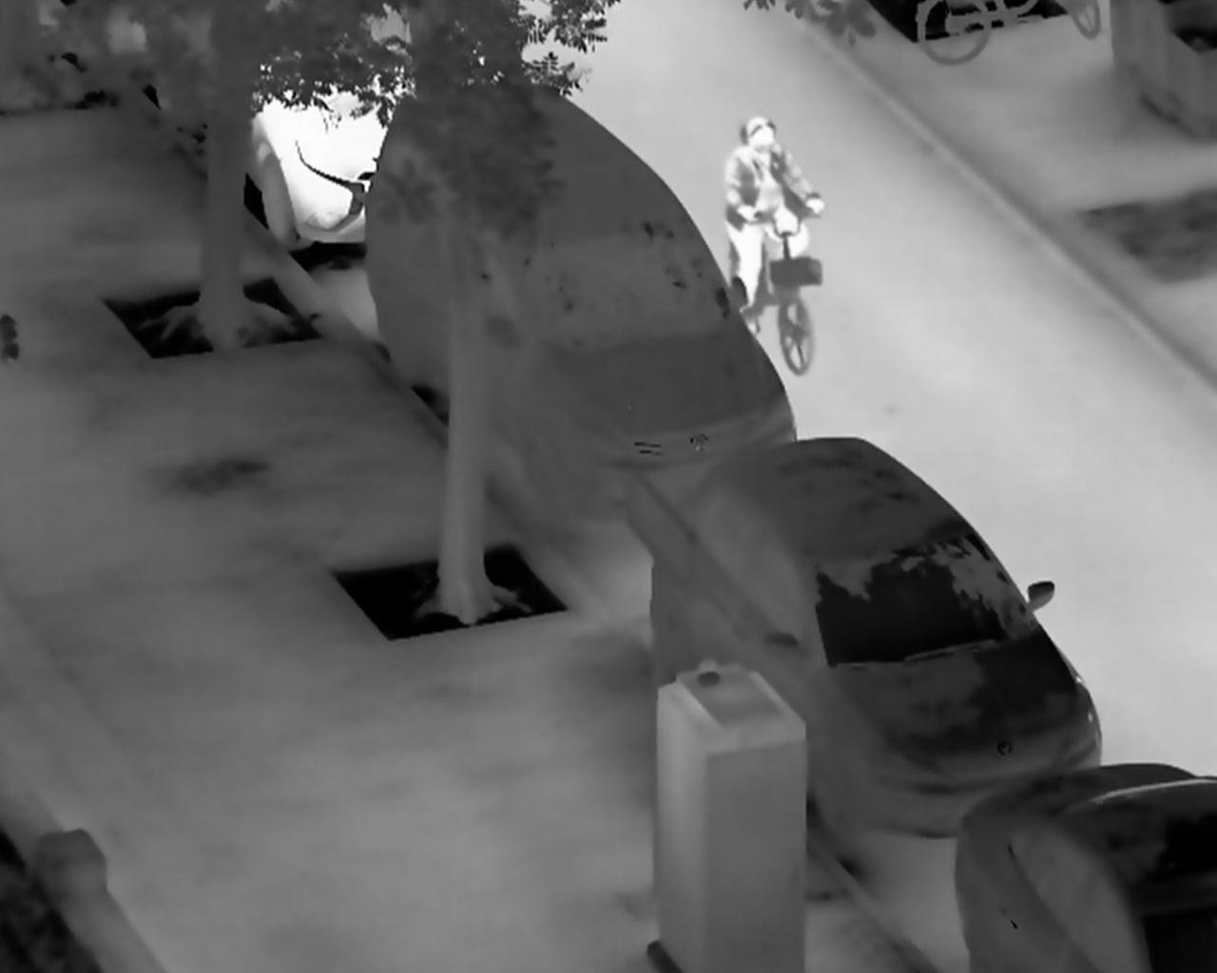person: (721, 114, 826, 311)
